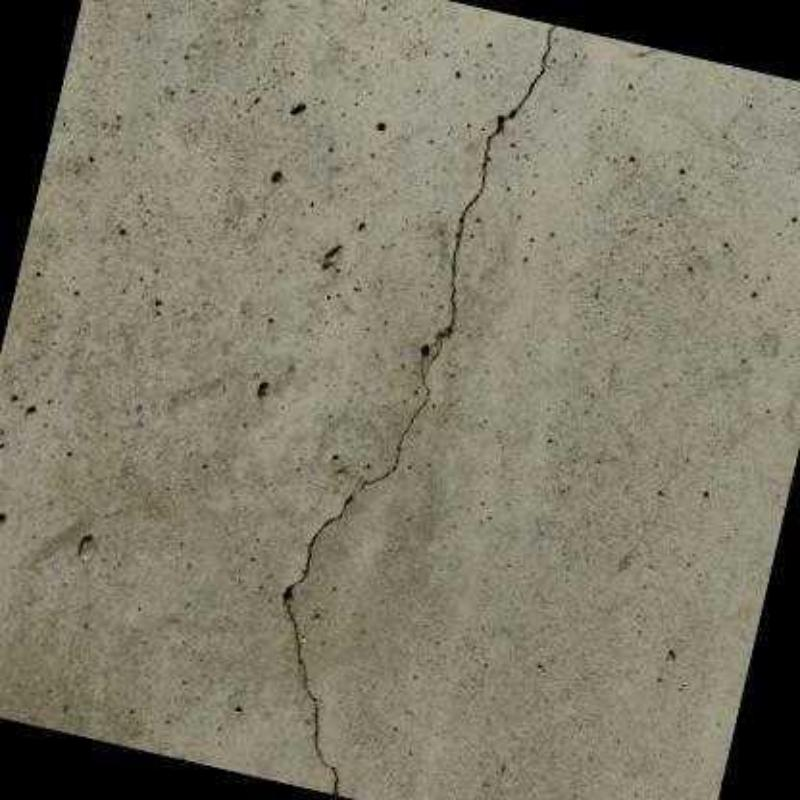pothole: (278, 23, 559, 797)
